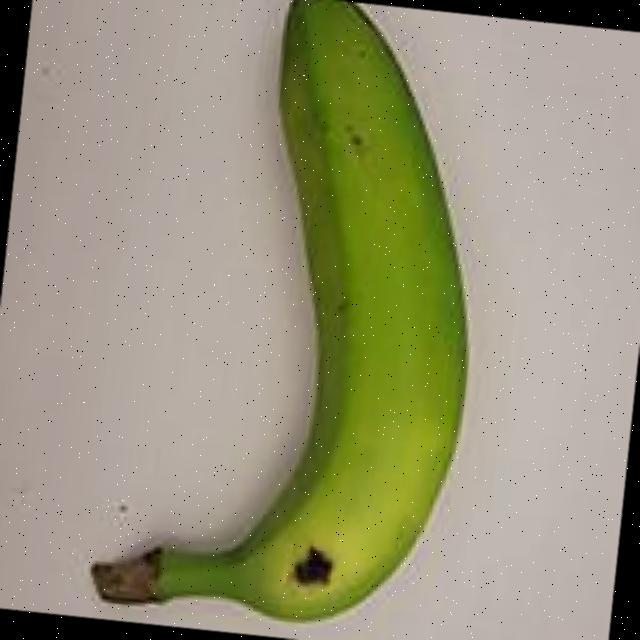Unripe: (35, 0, 531, 640)
